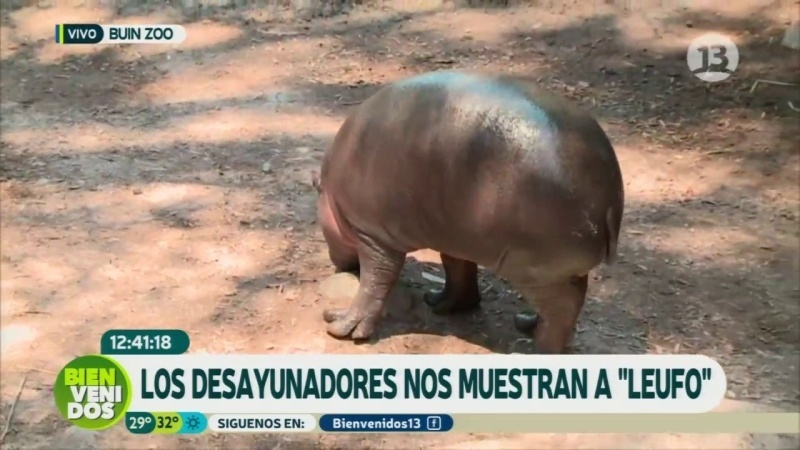hipopotamo: (293, 61, 624, 354)
